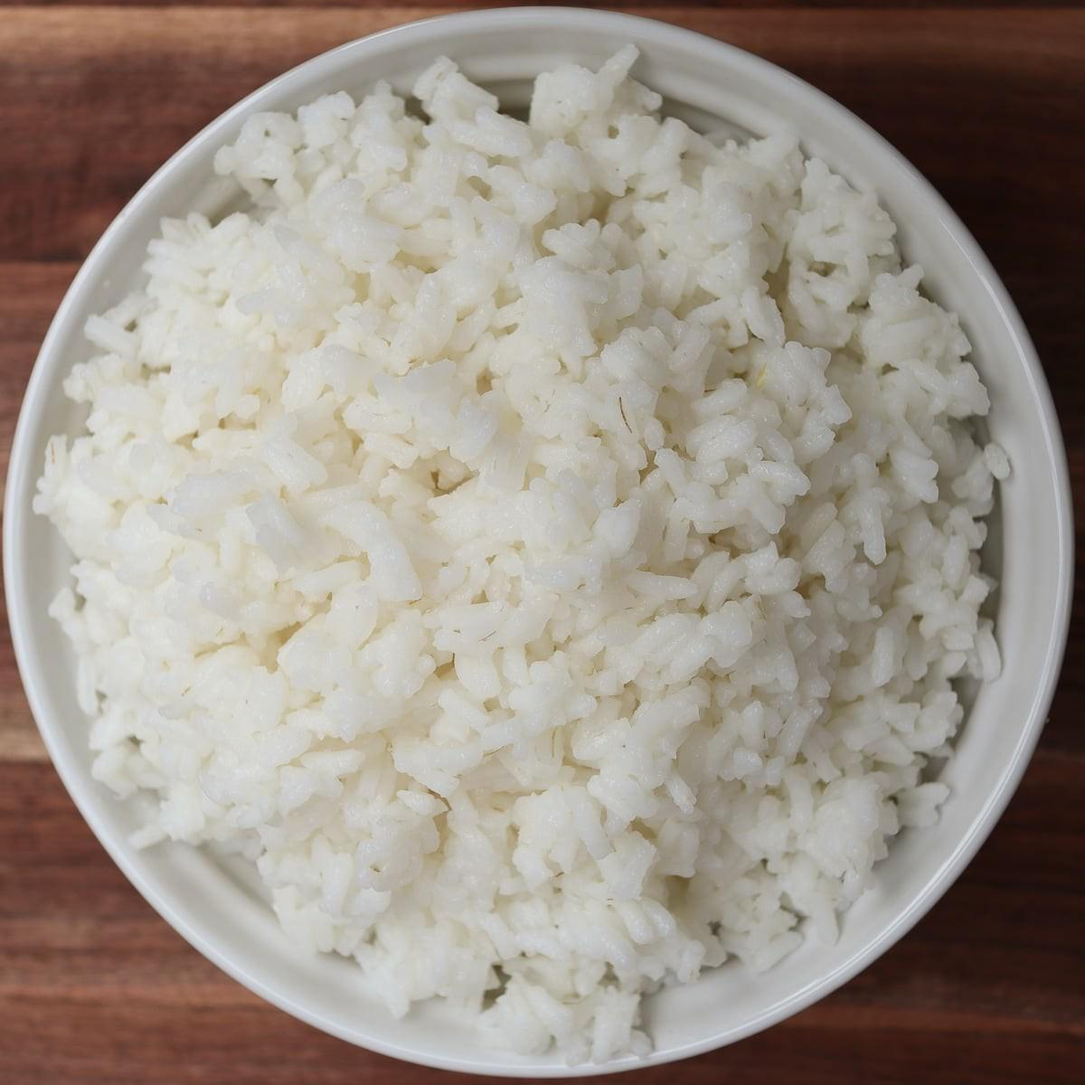WhiteRice: (30, 37, 1014, 1062)
